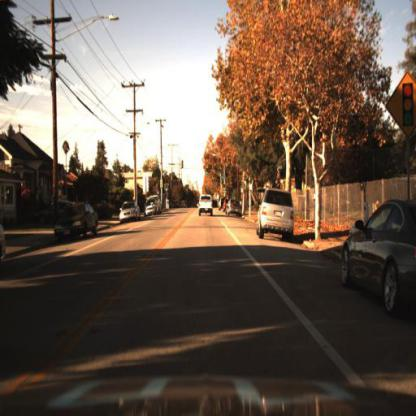car: (341, 198, 416, 325), (255, 185, 298, 241), (51, 197, 101, 243), (116, 199, 144, 225), (197, 192, 216, 219), (226, 197, 245, 222), (142, 197, 160, 220)
